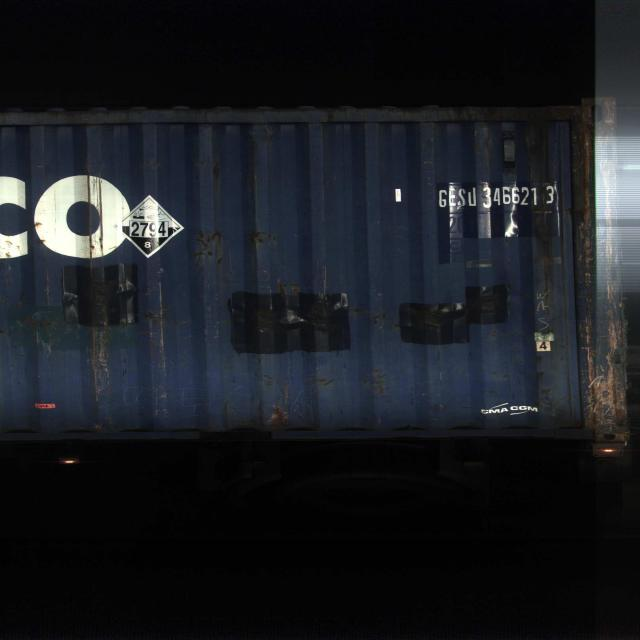rust: (583, 120, 619, 276), (528, 148, 562, 283), (586, 365, 629, 428), (89, 313, 112, 404), (194, 225, 228, 265)
